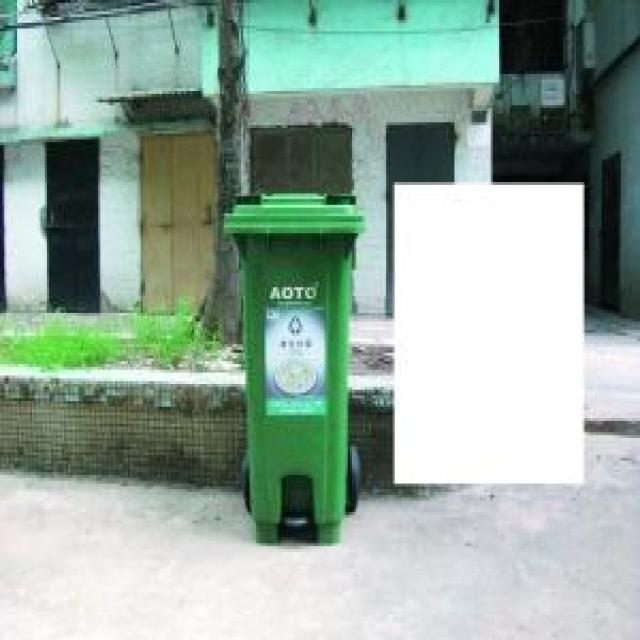garbage_bin: (220, 188, 362, 540)
